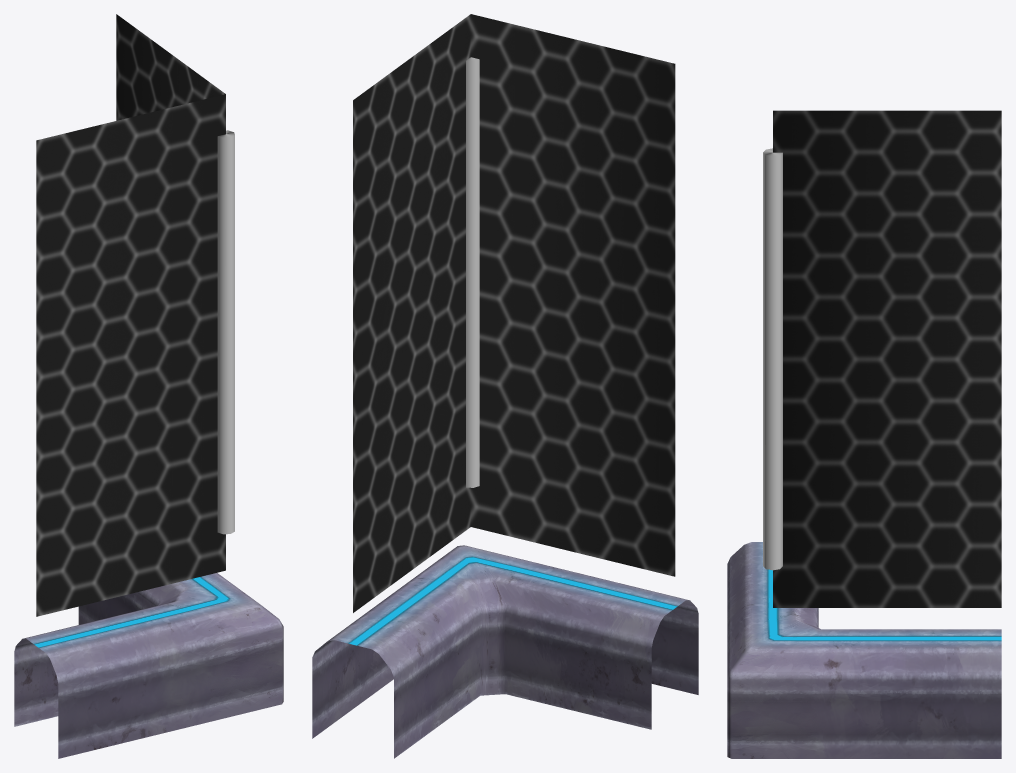
File: SM_Bleachers_Wall_Curve.fbx
The picture shows the model from 3 angles, left to right: view 1: azimuth 30°, elevation 25°; view 2: azimuth 150°, elevation 25°; view 3: azimuth 270°, elevation 25°; orthographic projection. The views are drawn at different scales.
Visible parts, largest first — view 1: SM_Bleachers_Wall_Curve_Outer; view 2: SM_Bleachers_Wall_Curve_Outer; view 3: SM_Bleachers_Wall_Curve_Outer.
Part boxes in pixels (x1,y1,x2,y2): SM_Bleachers_Wall_Curve_Outer: [14, 14, 283, 758]; SM_Bleachers_Wall_Curve_Outer: [312, 14, 698, 758]; SM_Bleachers_Wall_Curve_Outer: [727, 110, 1001, 758].
Bounding box in the file's own units: 300 × 759 × 300.
